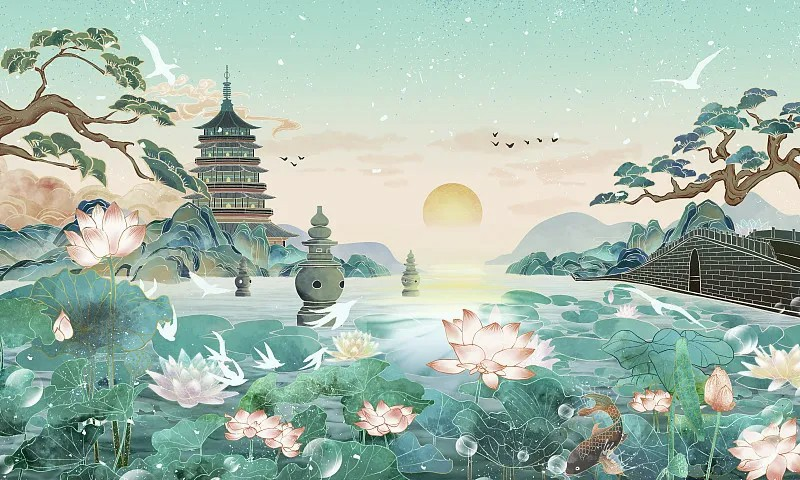Leifeng: (187, 63, 300, 253)
